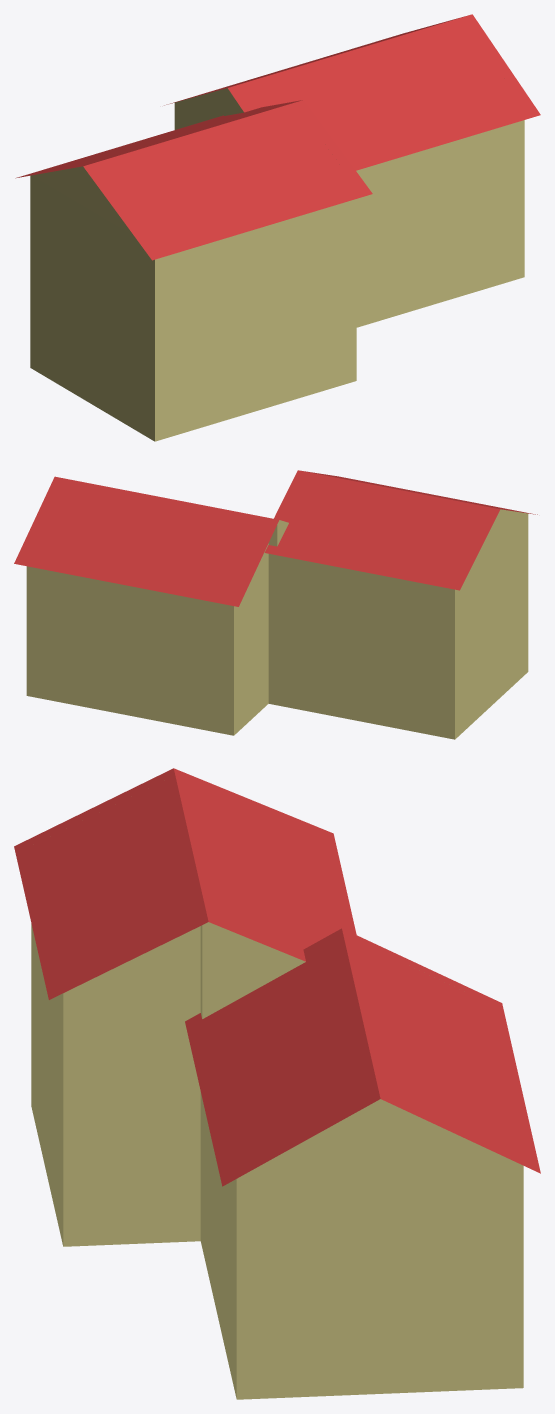
3 views of the same model, one above another, from view 1: azimuth 30°, elevation 25°; view 2: azimuth 150°, elevation 25°; view 3: azimuth 270°, elevation 25° (orthographic). The views are drawn at different scales.
Size of the model in its own units: 23.78 by 16.56 by 11.29.
